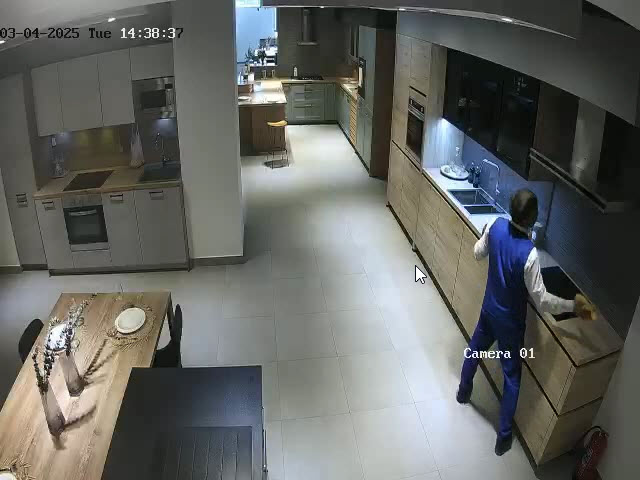employee: (456, 189, 578, 456)
